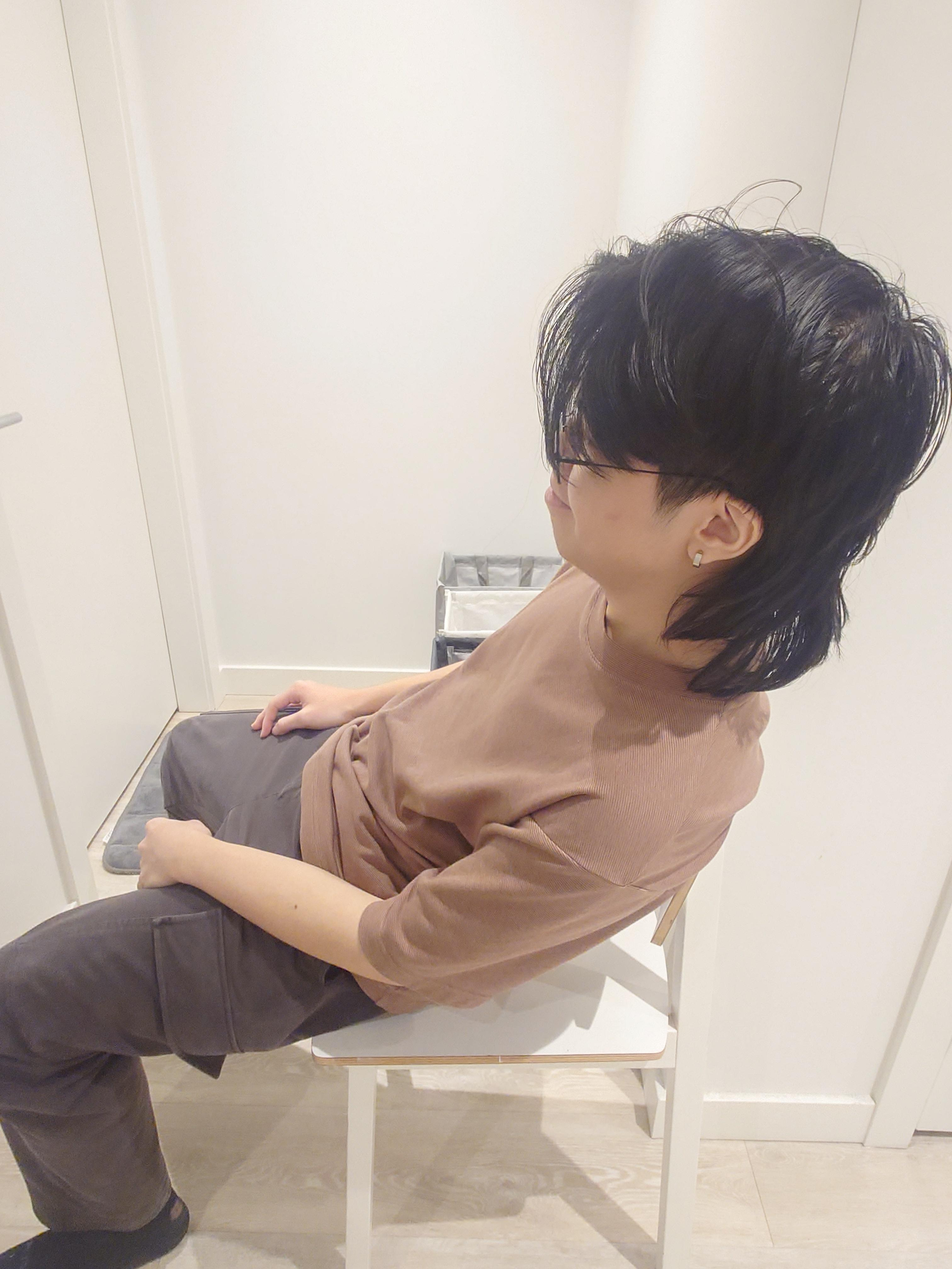BadPosture: (0, 222, 945, 1269)
